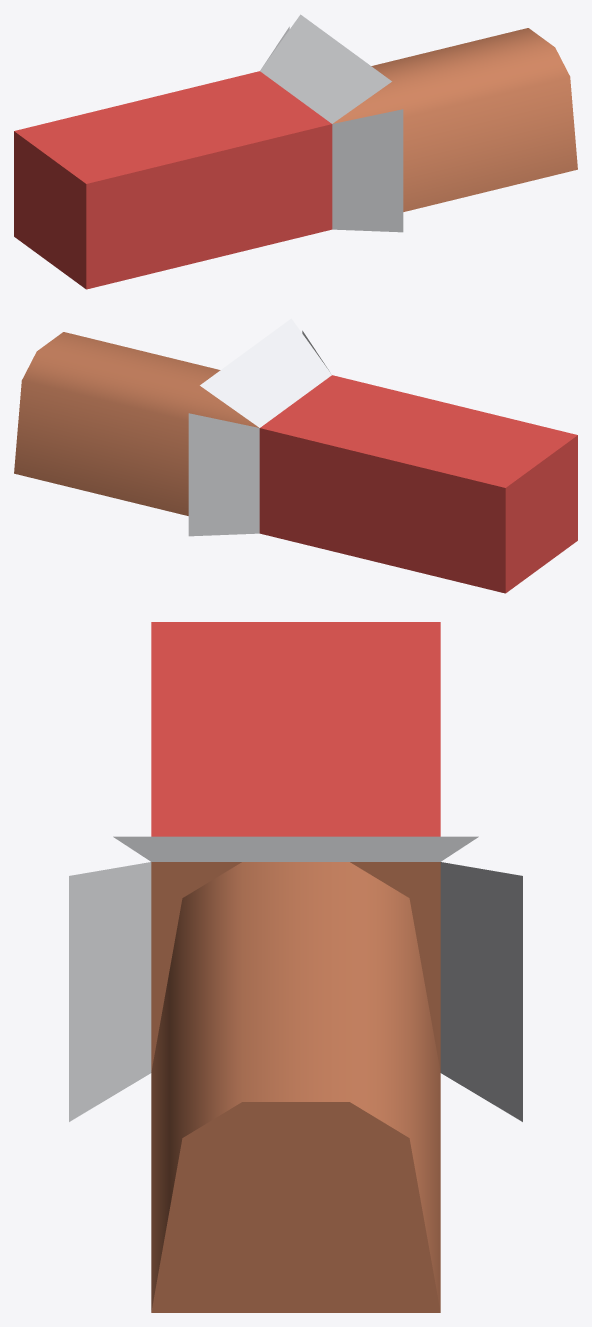
The model's file is Candy Bar Wrapper.glb.
The picture shows the model from 3 angles, top to bottom: view 1: azimuth 30°, elevation 25°; view 2: azimuth 150°, elevation 25°; view 3: azimuth 270°, elevation 25°; orthographic projection. The views are drawn at different scales.
Parts seen in each view (by area): view 1: candyBarWrapper; view 2: candyBarWrapper; view 3: candyBarWrapper.
Part boxes in pixels (left/top/right/bottom): candyBarWrapper: left=14, top=14, right=577, bottom=289; candyBarWrapper: left=14, top=318, right=577, bottom=593; candyBarWrapper: left=69, top=622, right=522, bottom=1312.
Size of the model in its own units: 0.2924 by 0.0812 by 0.1169.
